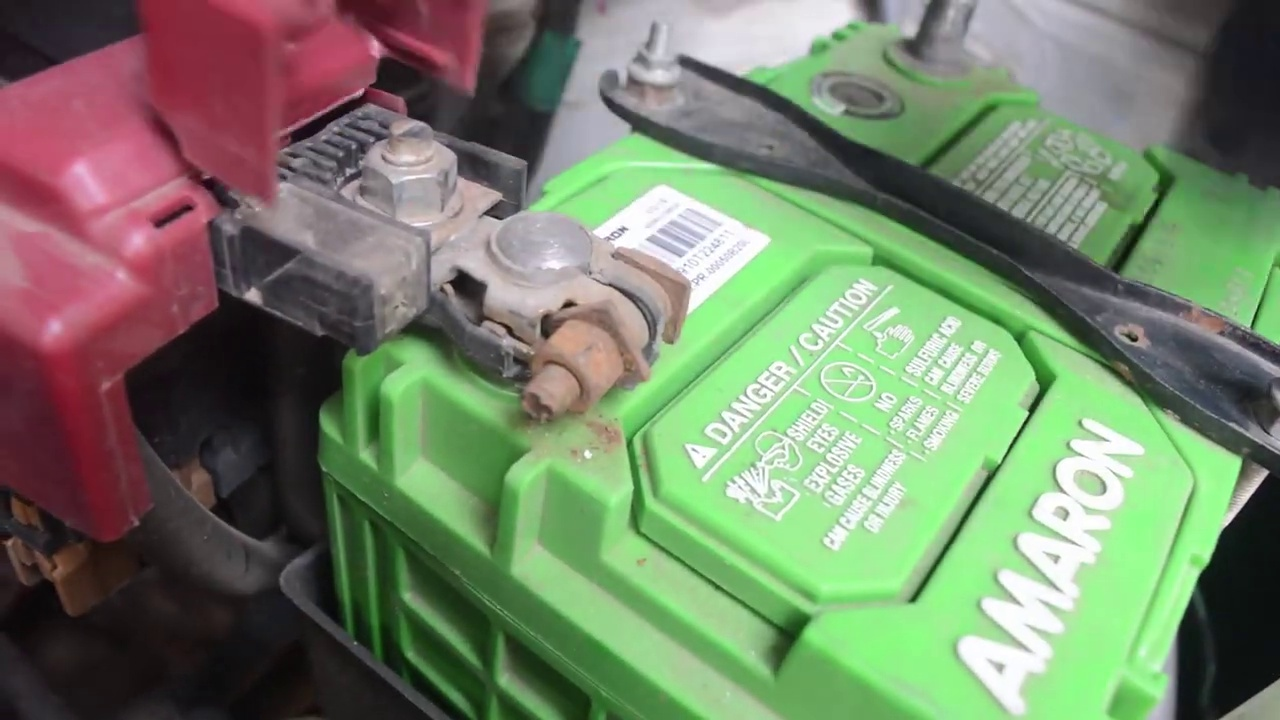battery: (341, 1, 1266, 720)
neg_disconnected: (845, 1, 1036, 100)
pos_connected: (34, 9, 691, 428)
